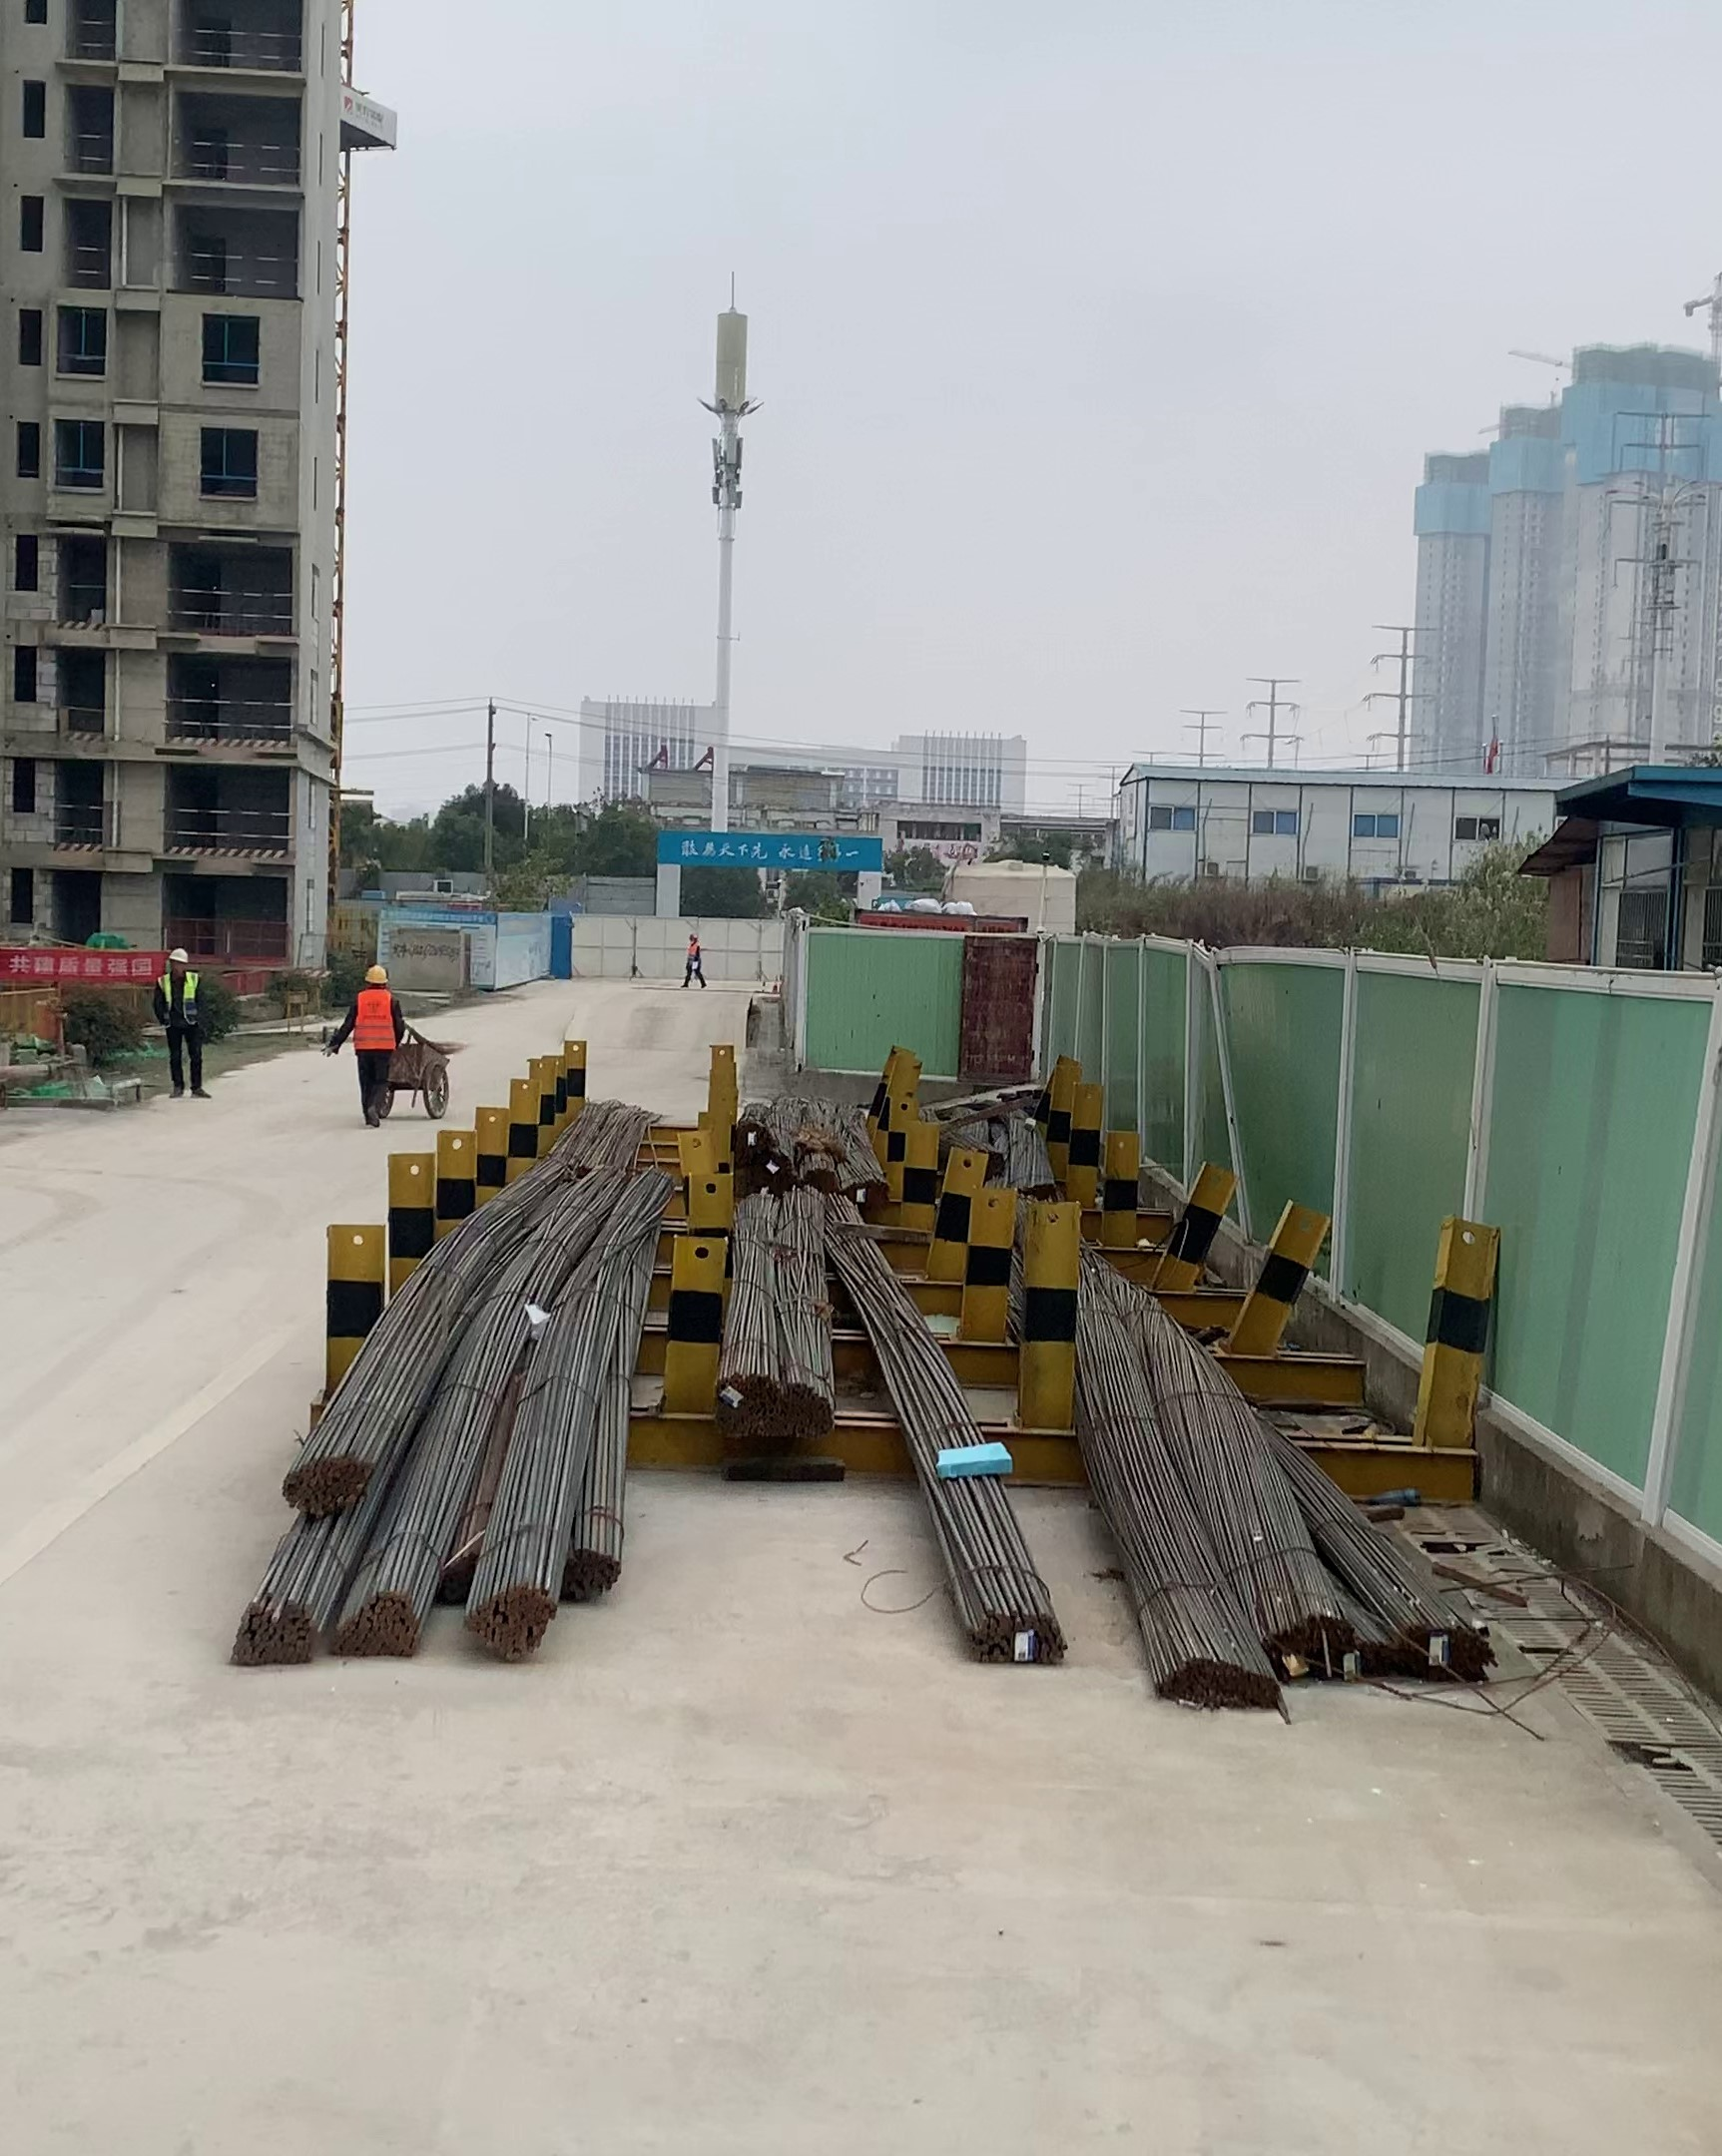rebar: (1378, 1622, 1515, 1685), (235, 1585, 311, 1675), (1160, 1655, 1276, 1713), (464, 1581, 552, 1652), (1269, 1610, 1358, 1678), (332, 1588, 420, 1653), (279, 1448, 373, 1506), (970, 1606, 1061, 1662), (717, 1374, 782, 1441), (782, 1376, 836, 1441), (569, 1530, 606, 1601), (443, 1545, 478, 1597)
